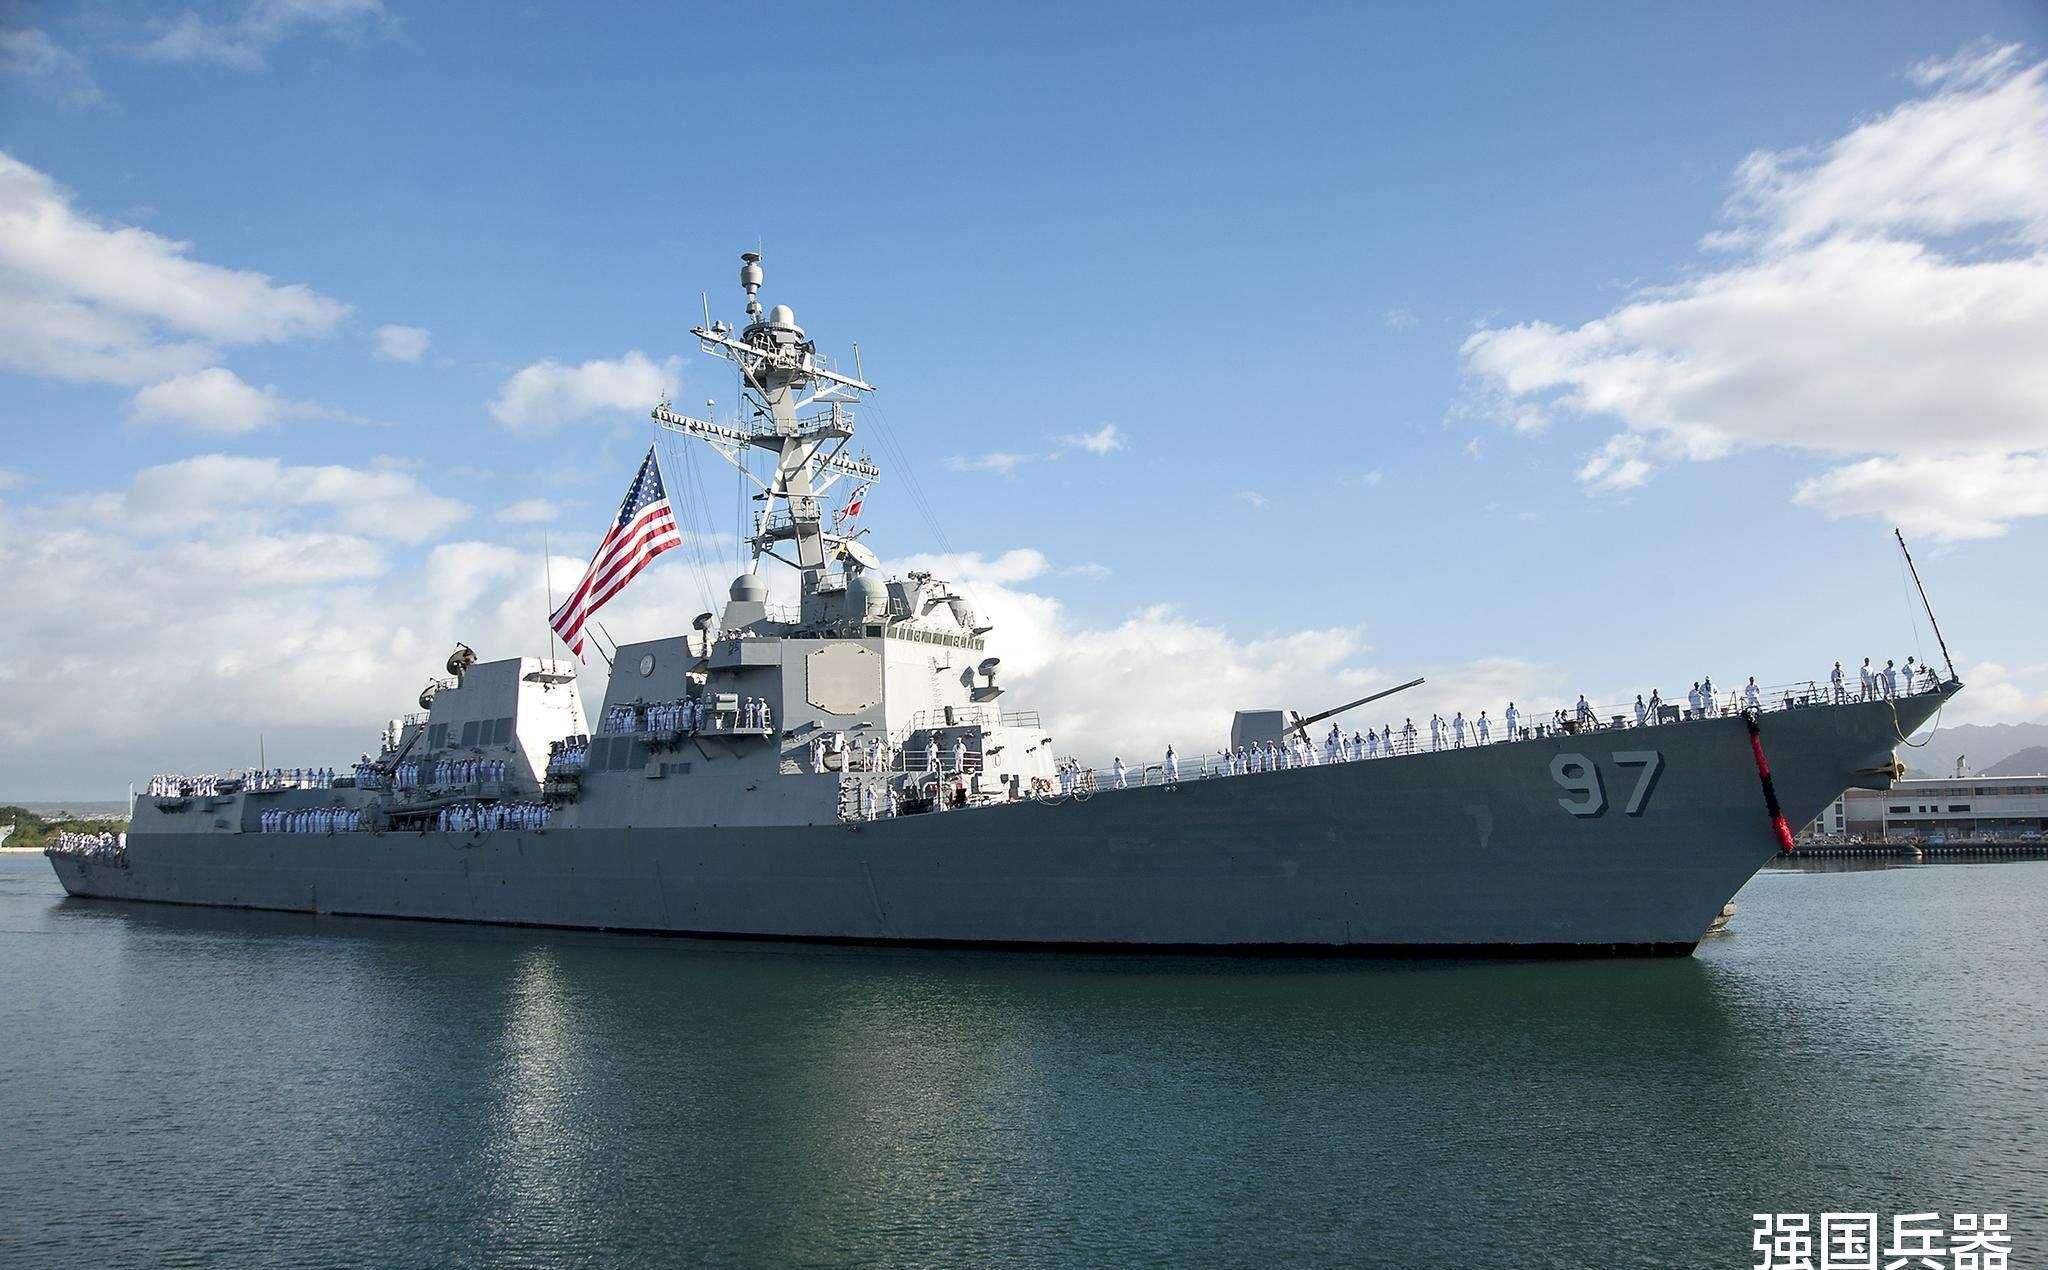warship: (37, 244, 1973, 950)
